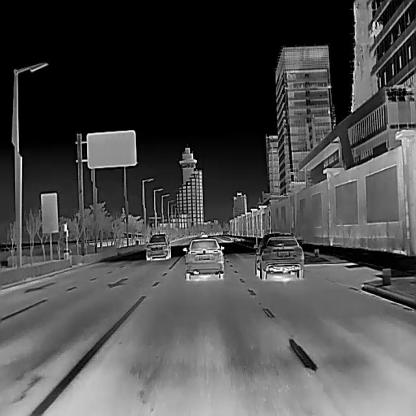car: (254, 232, 304, 278), (182, 238, 224, 280), (146, 233, 170, 260), (199, 232, 208, 238)
